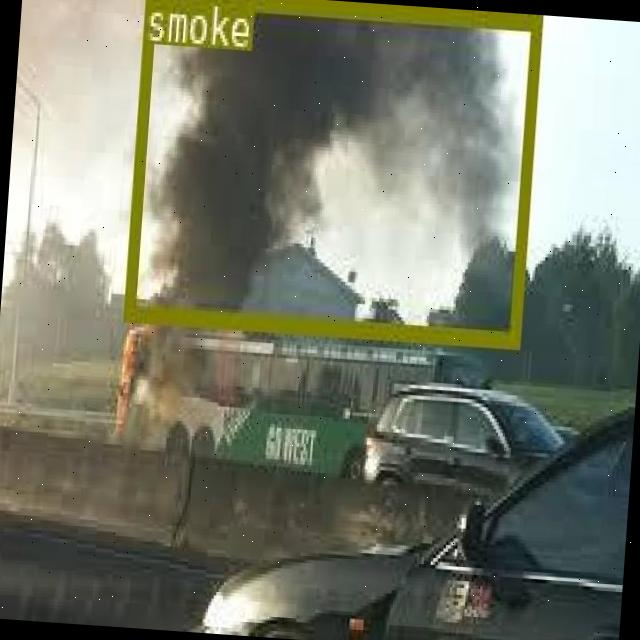smoke: (122, 0, 540, 343)
